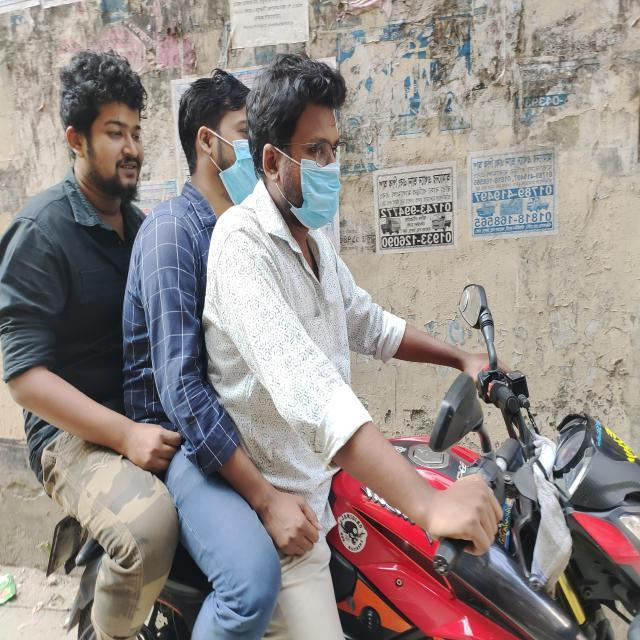motorcycle: (45, 284, 640, 640)
person: (226, 49, 434, 640), (8, 49, 174, 640), (117, 62, 270, 640)
rider_region: (7, 47, 640, 640)
